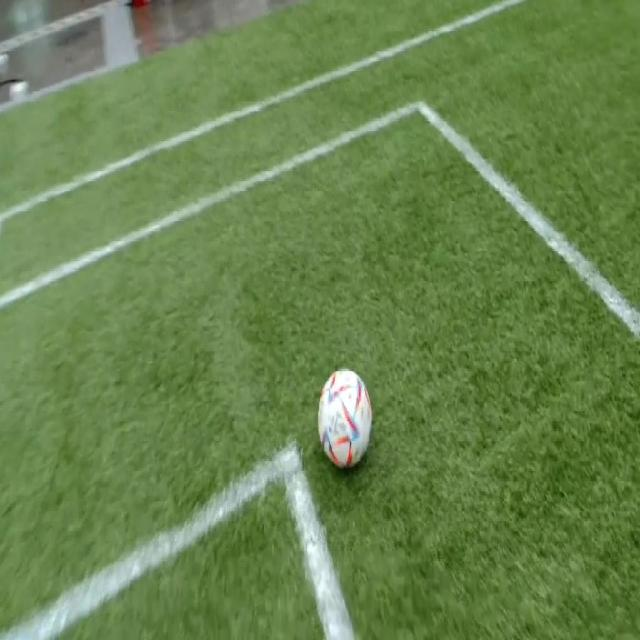ball: (318, 369, 372, 469)
